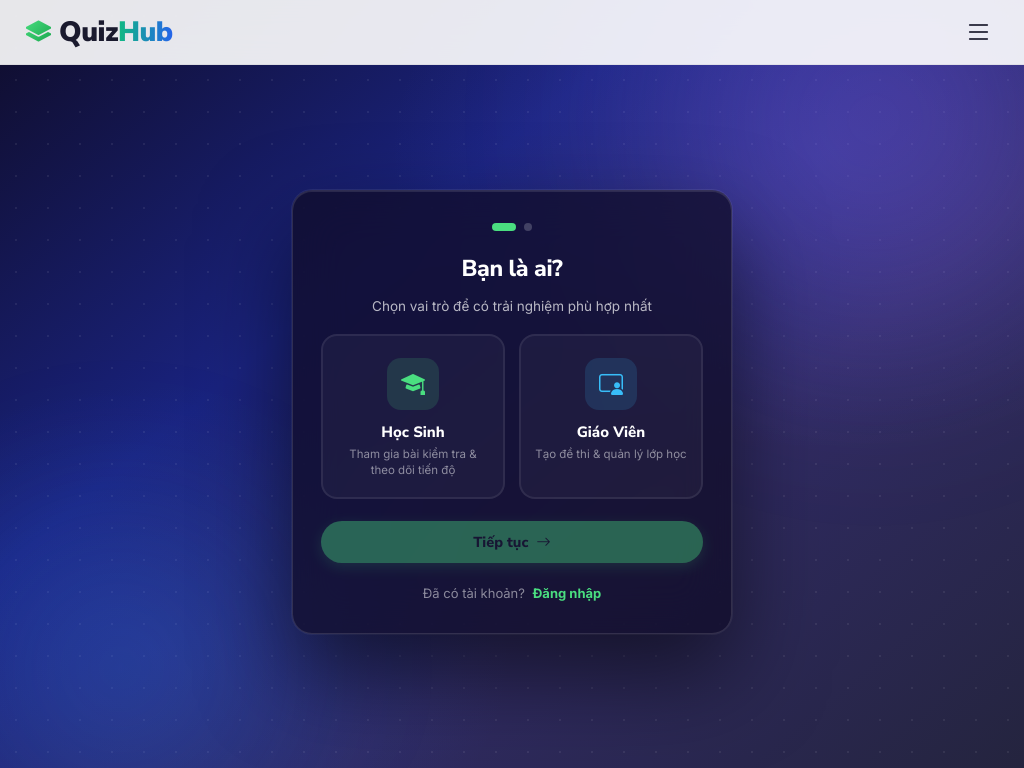
Test case: RegisterPage Component - V1 2-Step Parity and Auth Behavior › 5. transitions to Step 2 with STUDENT role badge and renders all form fields
This screenshot has width=1024, height=768.
Click the radio button labelled "Học Sinh Tham gia bài kiểm tra & theo dõi tiến độ" at point(413, 416), box [321,334,505,499]
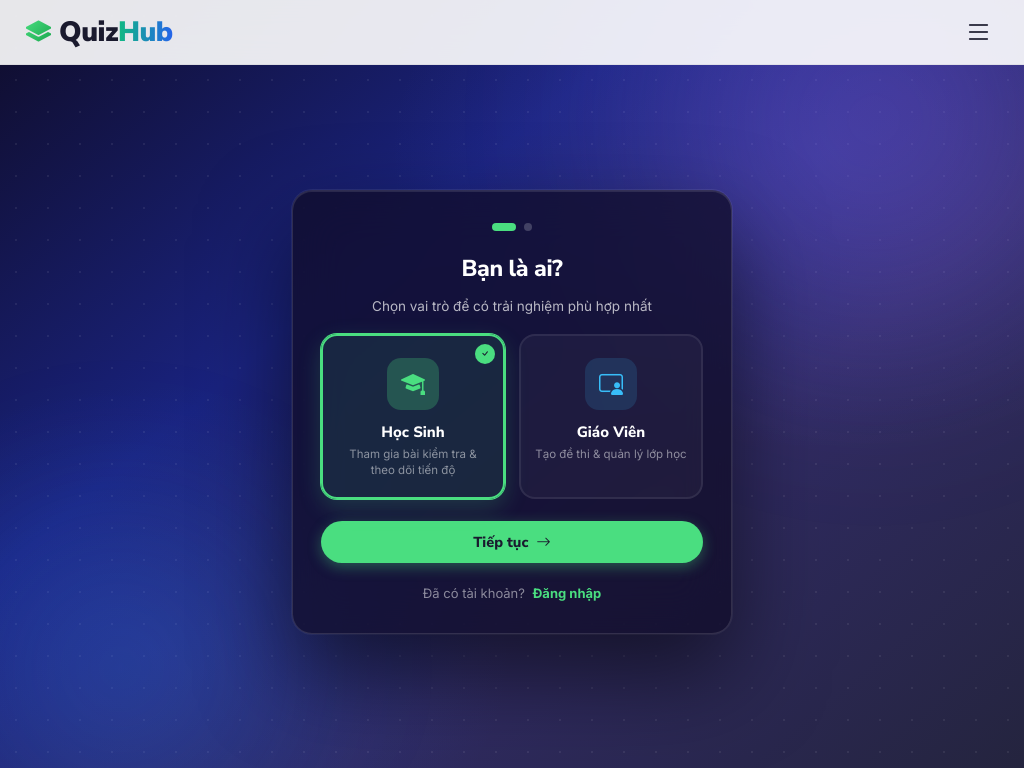
Click the button "Tiếp tục" at point(512, 542), box [321,521,703,563]
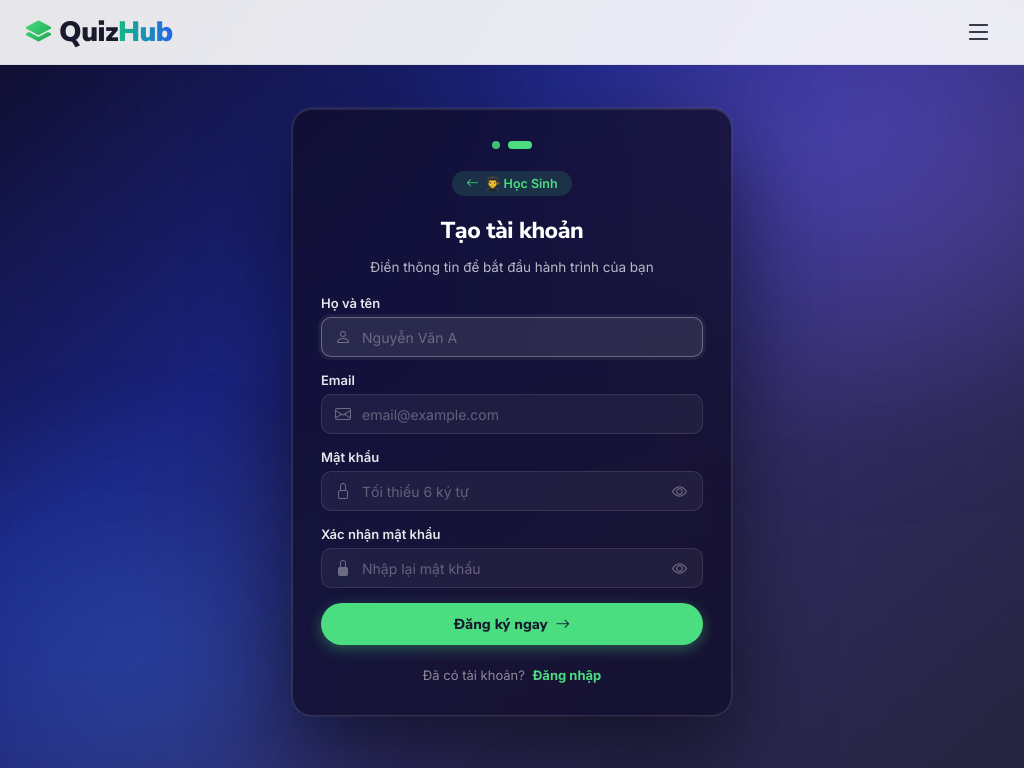
Now the element named "Bước 2 trên 2" is shown, box [492,141,532,149]
Now the button with aria-label "Đổi vai trò, quay lại bước 1" reads "👨‍🎓 Học Sinh", box [452,171,572,196]
Now the heading "Tạo tài khoản" is shown, box [441,215,583,246]
